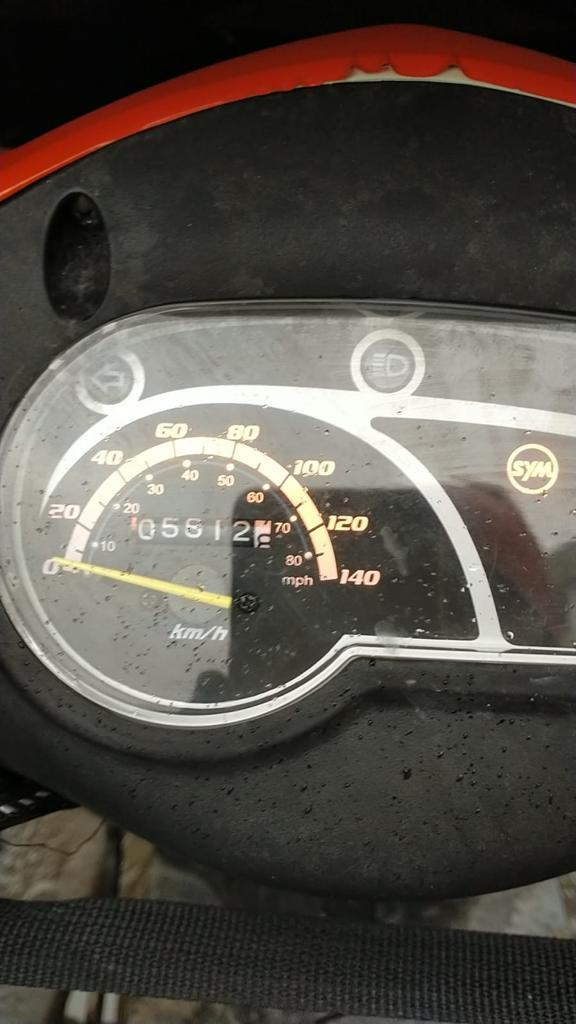0: (136, 516, 156, 543)
1: (213, 518, 223, 546)
2: (230, 518, 251, 543)
8: (182, 515, 205, 542), (255, 530, 271, 551)
odometer: (127, 513, 274, 552)
